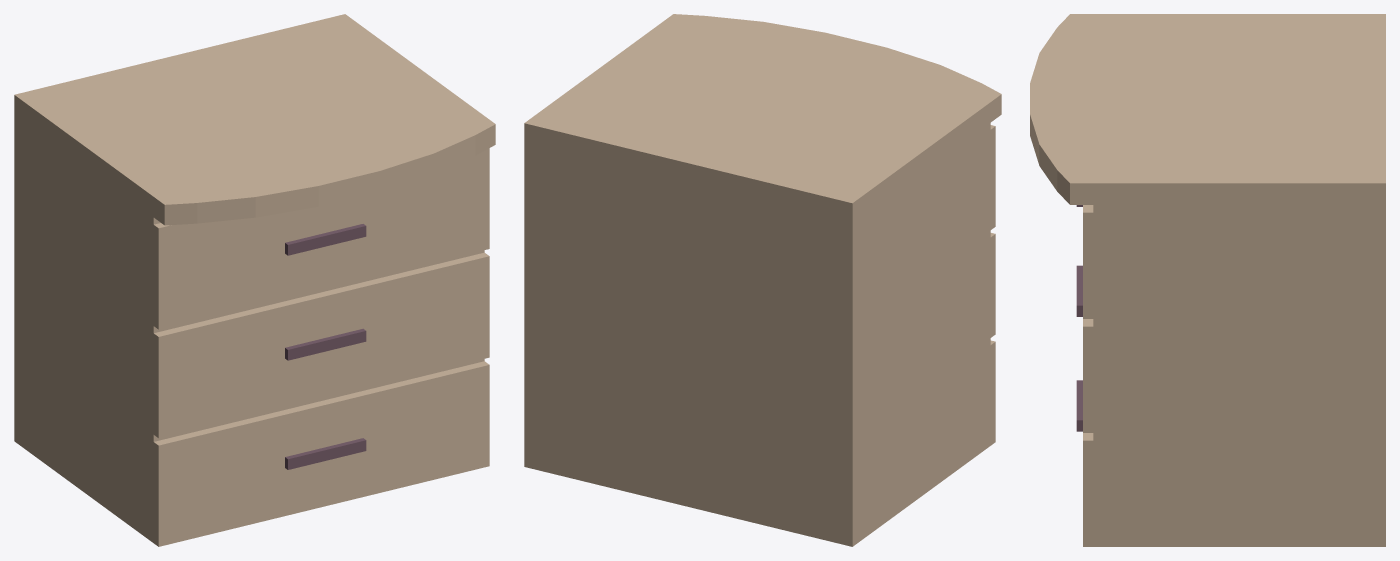
Rendered from Closet.fbx.
3 renders of one model, left to right at view 1: azimuth 30°, elevation 25°; view 2: azimuth 150°, elevation 25°; view 3: azimuth 270°, elevation 25°, orthographic. The views are drawn at different scales.
Parts seen in each view (by area): view 1: Cube.003; view 2: Cube.003; view 3: Cube.003.
Part boxes in pixels (x1,y1,x2,y2): Cube.003: [14, 14, 495, 546]; Cube.003: [524, 14, 1001, 546]; Cube.003: [1030, 14, 1385, 546].
Size of the model in its own units: 274 by 274 by 243.
